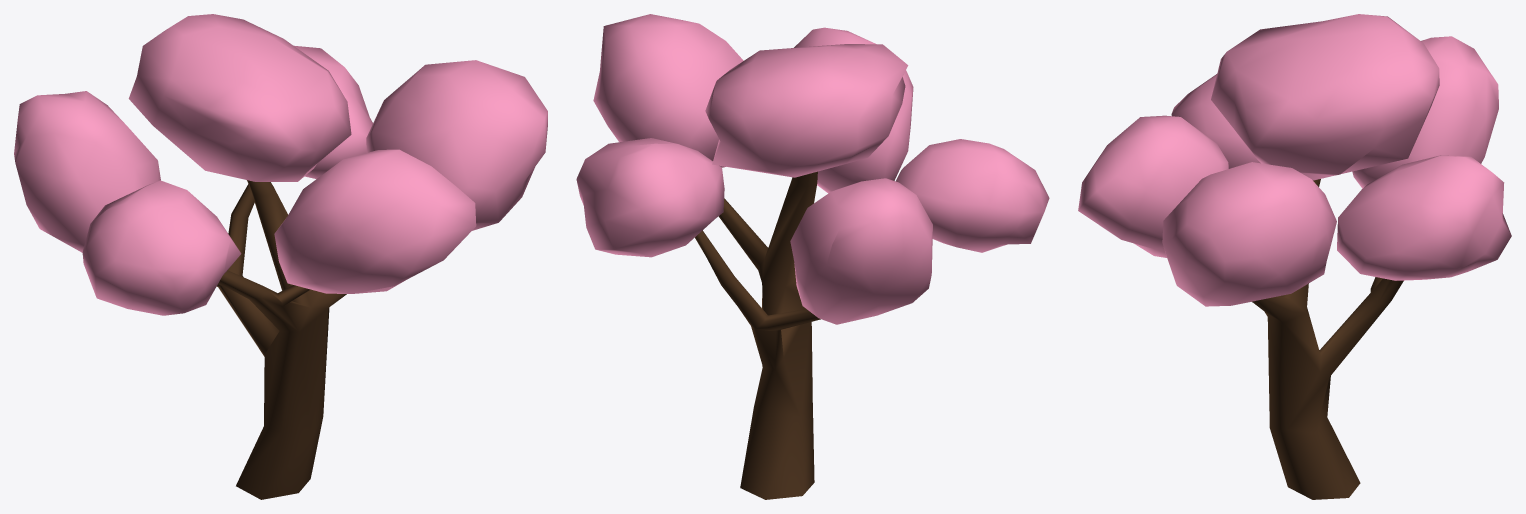
File: Tree_6.fbx
3 renders of one model, left to right at view 1: azimuth 30°, elevation 25°; view 2: azimuth 150°, elevation 25°; view 3: azimuth 270°, elevation 25°, orthographic. The views are drawn at different scales.
Visible parts, largest first — view 1: Tree_6; view 2: Tree_6; view 3: Tree_6.
Boxes of the visible parts, x1,y1,x2,y2 form: Tree_6: (14, 14, 547, 499); Tree_6: (576, 14, 1049, 499); Tree_6: (1078, 14, 1511, 499).
Size of the model in its own units: 702 by 680 by 608.
